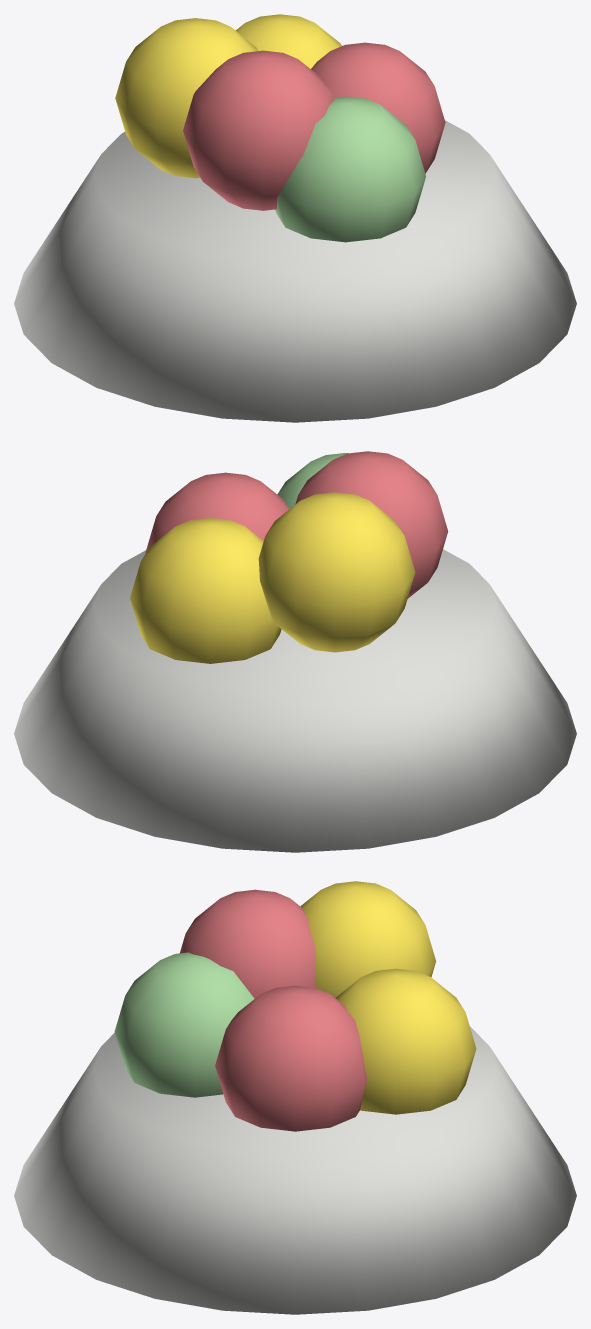
File: SM_FruitBowl.fbx
3 renders of one model, top to bottom at view 1: azimuth 30°, elevation 25°; view 2: azimuth 150°, elevation 25°; view 3: azimuth 270°, elevation 25°, orthographic.
Parts seen in each view (by area): view 1: SM_FruitBowl; view 2: SM_FruitBowl; view 3: SM_FruitBowl.
Boxes of the visible parts, x1,y1,x2,y2 form: SM_FruitBowl: (14,14,576,422); SM_FruitBowl: (14,451,576,852); SM_FruitBowl: (14,881,576,1314).
Size of the model in its own units: 0.28 by 0.15 by 0.28.
